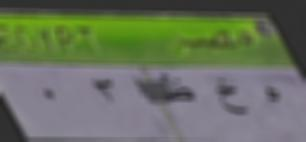0: (40, 85, 59, 103)
3: (85, 72, 120, 106)
Thaa: (158, 66, 196, 110)
haa: (260, 85, 285, 110)
khaa: (212, 73, 248, 120)
